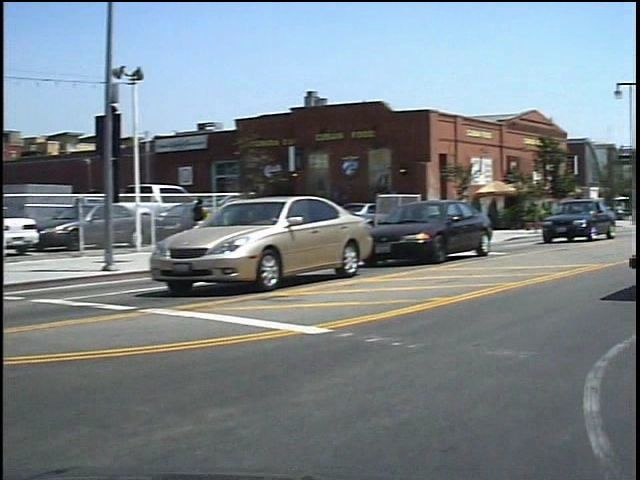person: (197, 186, 223, 251)
